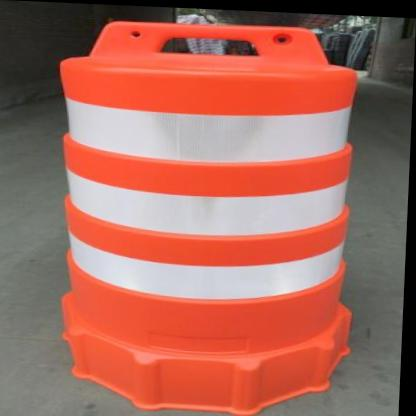obstacle: (64, 18, 362, 358)
